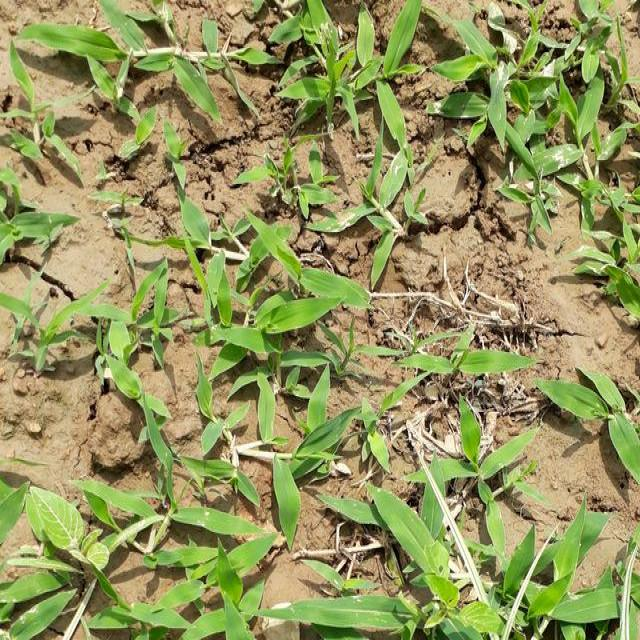weed: (3, 416, 639, 640), (74, 0, 390, 367), (427, 0, 640, 344)
